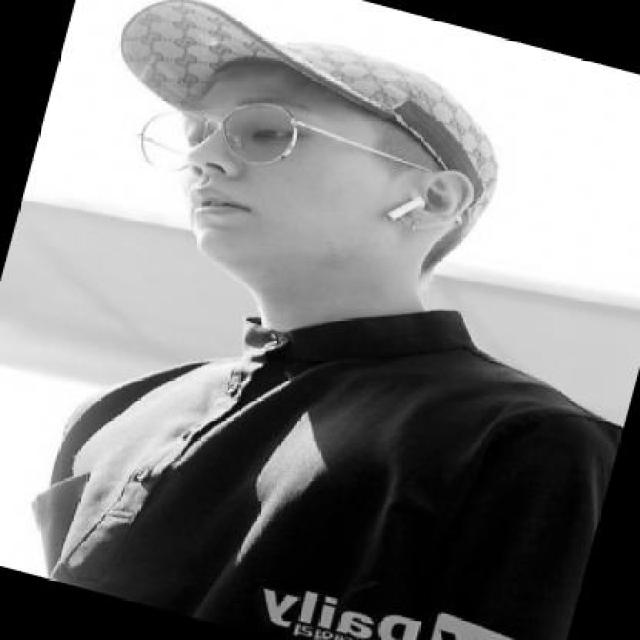earphone: (376, 169, 451, 243)
